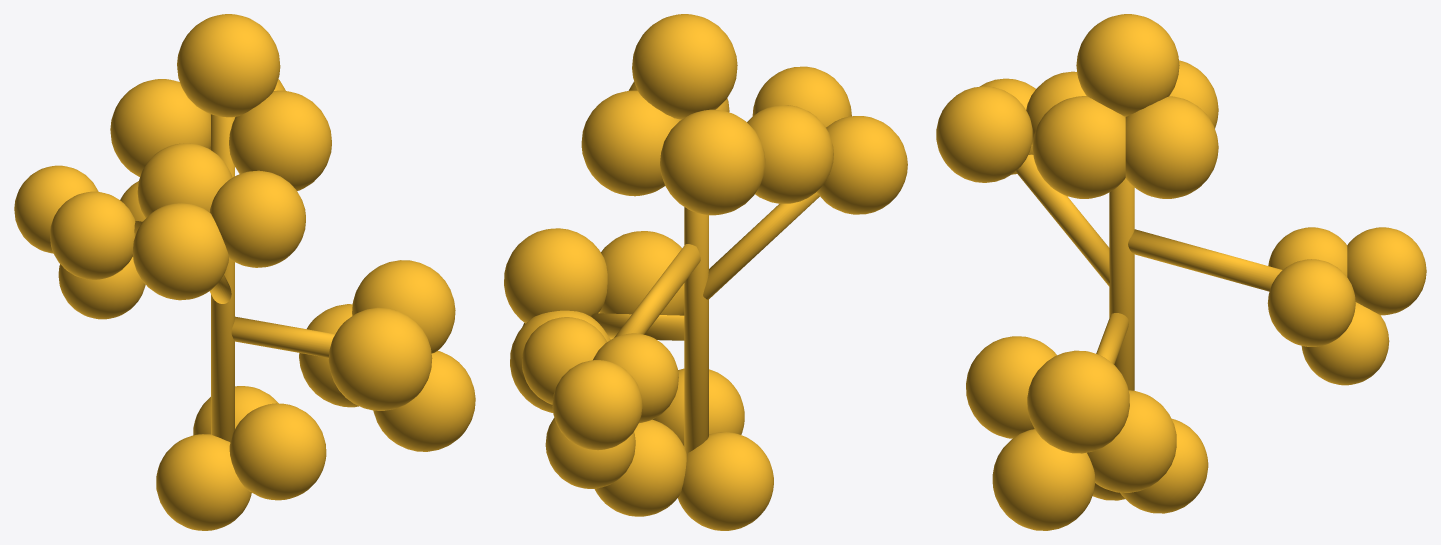
Rendered from C. auris new.glb.
3 renders of one model, left to right at view 1: azimuth 30°, elevation 25°; view 2: azimuth 150°, elevation 25°; view 3: azimuth 270°, elevation 25°, orthographic. The views are drawn at different scales.
Visible parts, largest first — view 1: C. auris; view 2: C. auris; view 3: C. auris.
Boxes of the visible parts, x1,y1,x2,y2 form: C. auris: (14, 14, 475, 530); C. auris: (504, 14, 907, 530); C. auris: (936, 14, 1426, 530).
Bounding box in the file's own units: 3.04 × 4.13 × 3.72.
